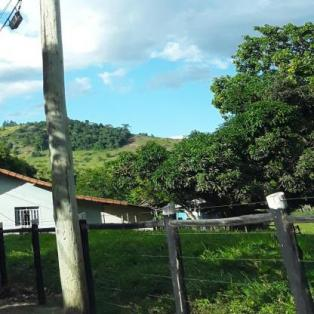Poste: (22, 0, 89, 314)
